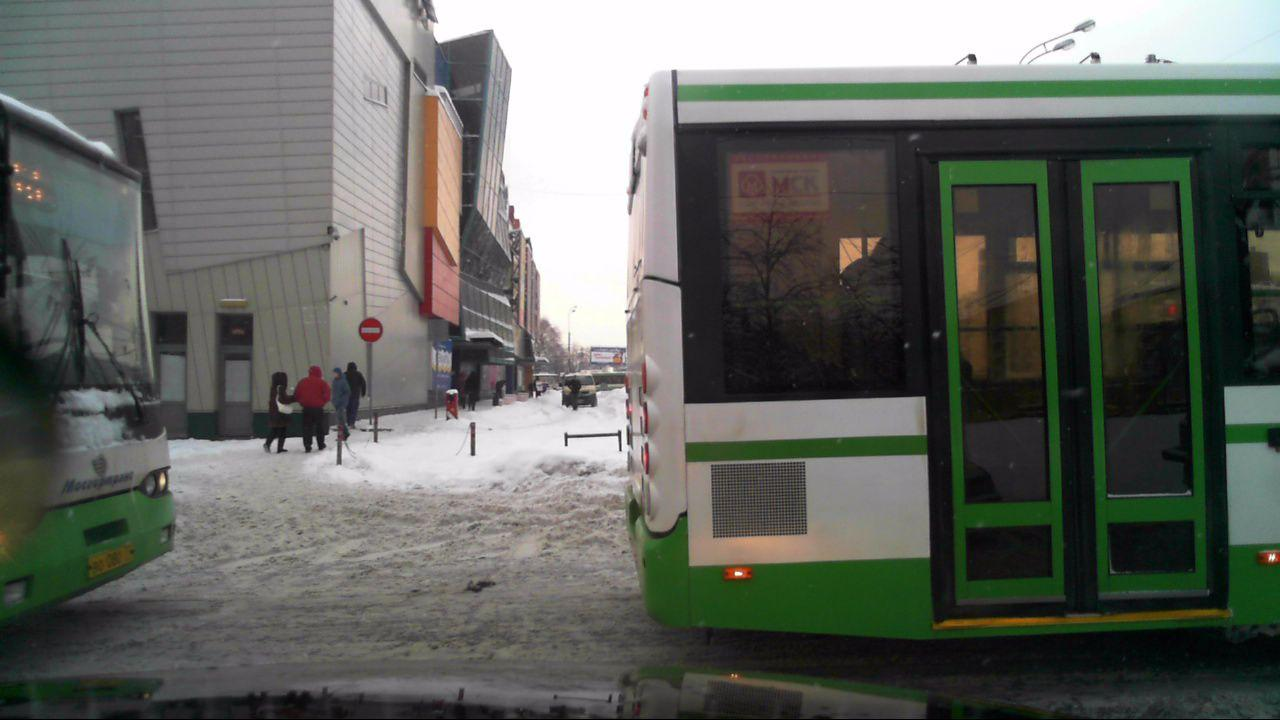3_1: (359, 318, 383, 342)
